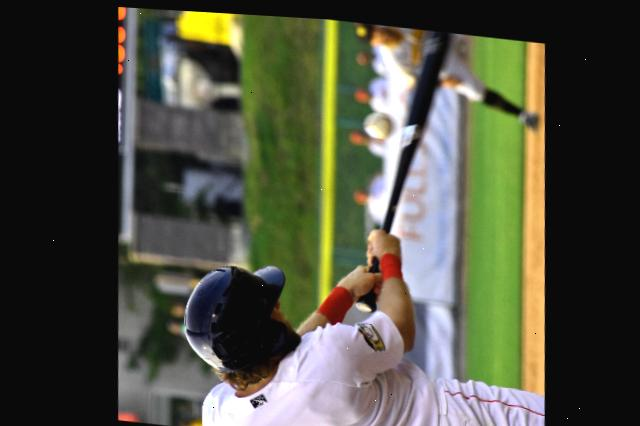baseball bat: (337, 17, 468, 322)
